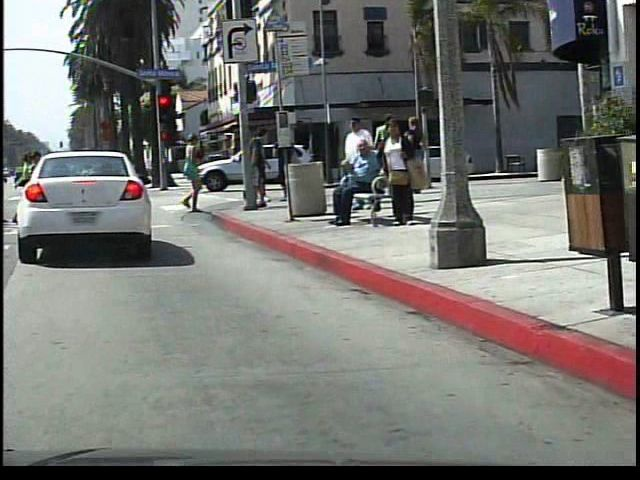person: (333, 143, 390, 226), (381, 118, 419, 234), (175, 127, 221, 217)
